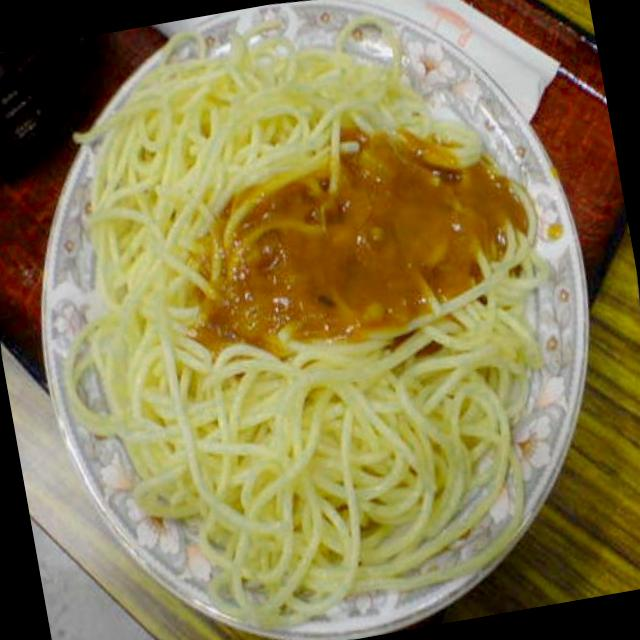Pasta: (36, 0, 597, 617)
